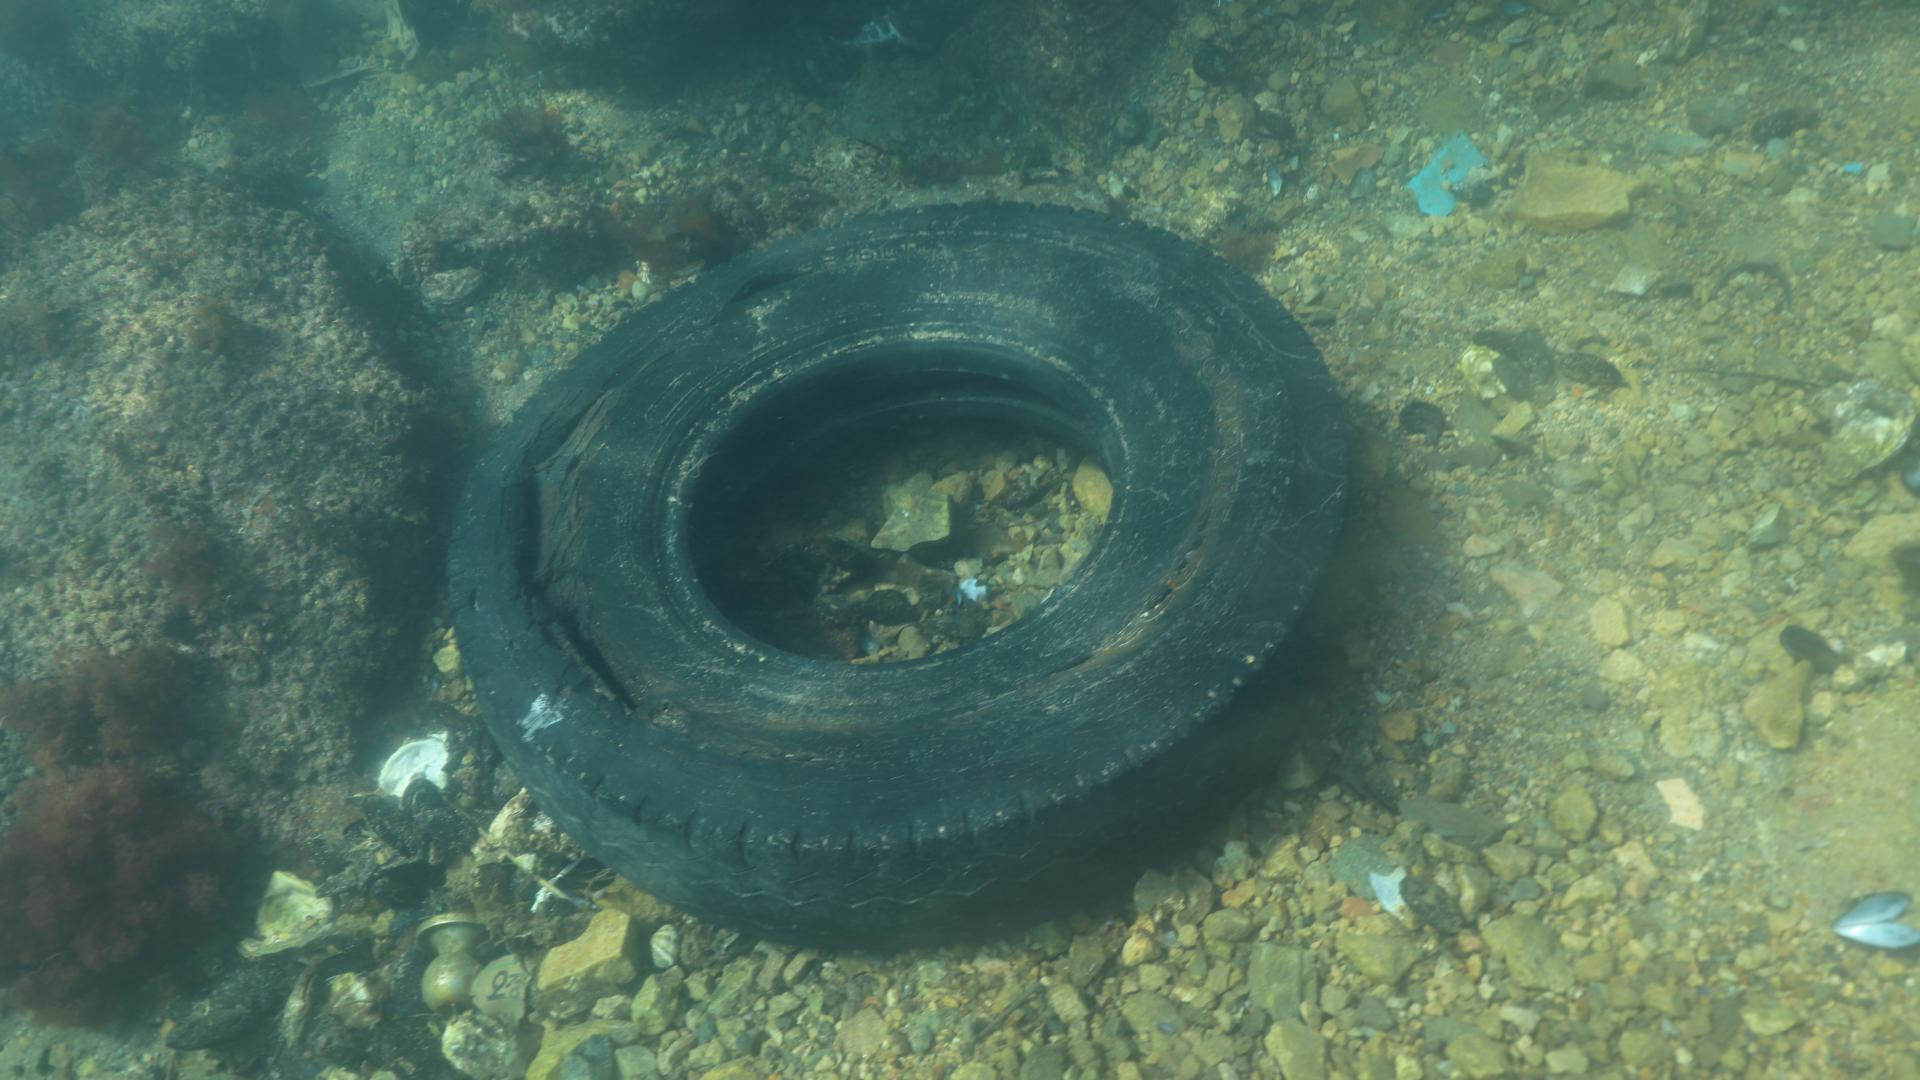tire: (440, 200, 1352, 953)
